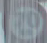Speed limit: (5, 0, 43, 42)
